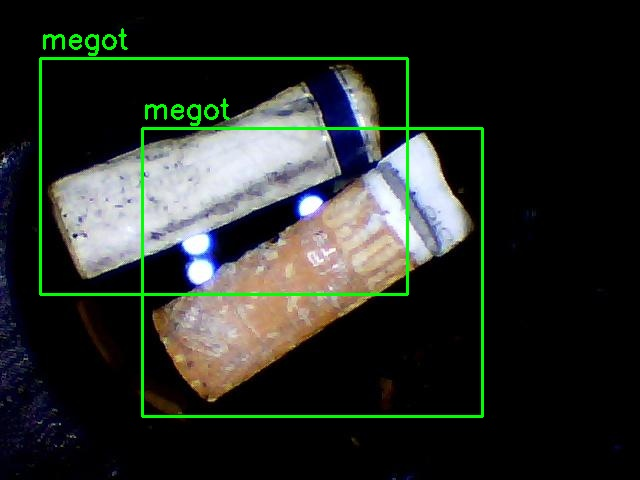megot: (142, 128, 482, 416), (40, 58, 407, 294)
